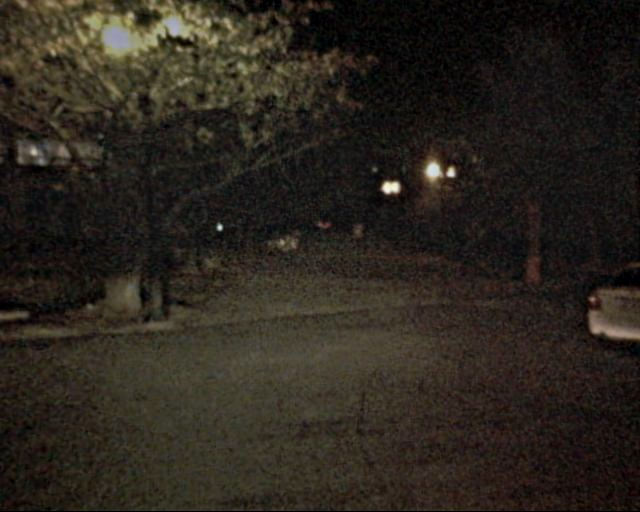person: (346, 220, 367, 271)
